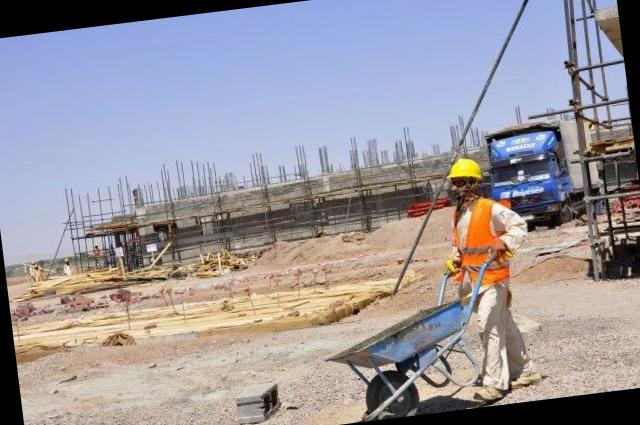helmet: (441, 150, 488, 186)
person: (428, 142, 550, 386)
